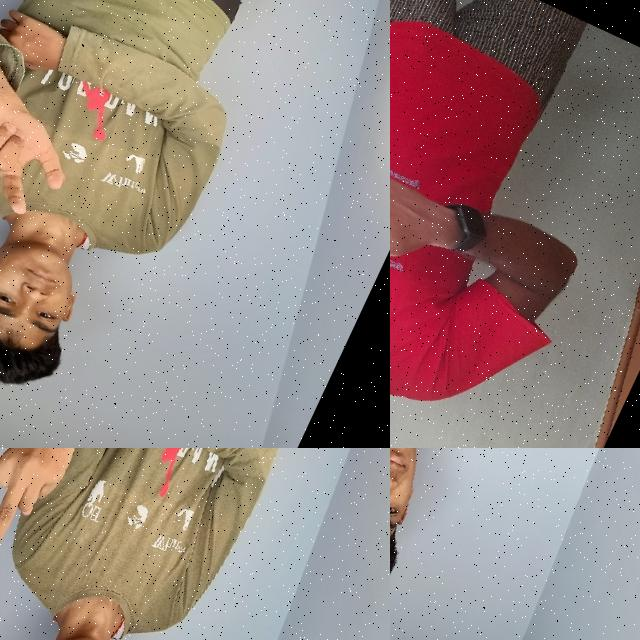Corna: (0, 62, 102, 231)
Five Fathers: (390, 83, 467, 303)
Reversed Victory: (0, 448, 115, 593)
